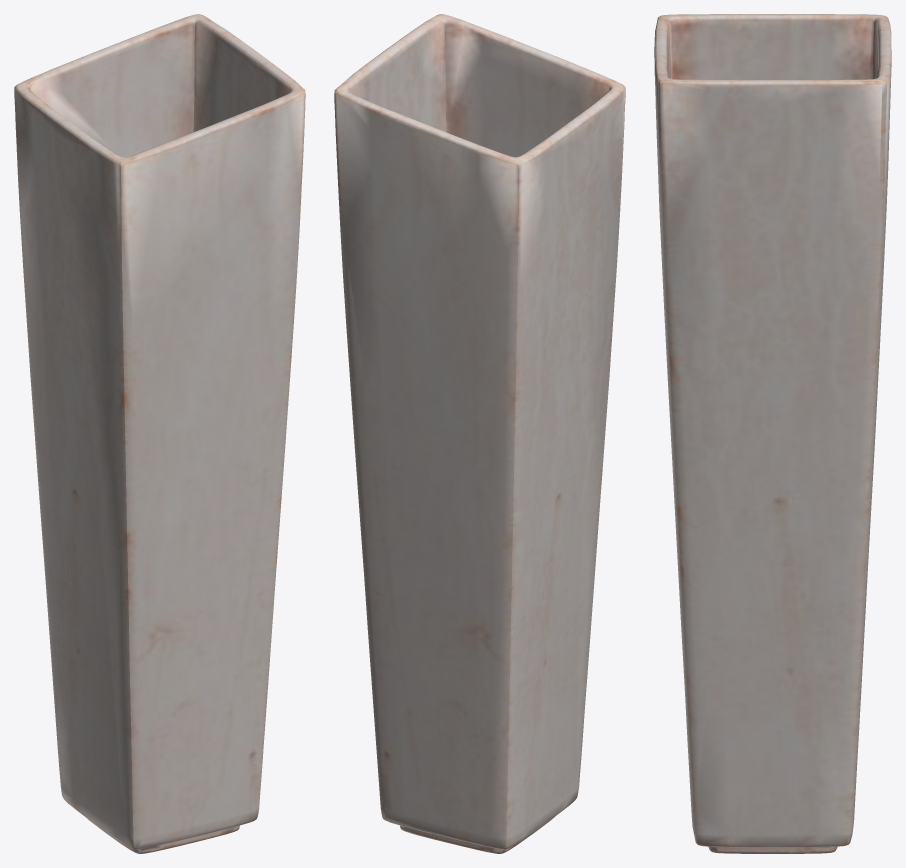
The model's file is VaseCeramicTall.obj.
The picture shows the model from 3 angles, left to right: view 1: azimuth 30°, elevation 25°; view 2: azimuth 150°, elevation 25°; view 3: azimuth 270°, elevation 25°; orthographic projection. The views are drawn at different scales.
Visible parts, largest first — view 1: Ceramic; view 2: Ceramic; view 3: Ceramic.
Boxes of the visible parts, <box> form: Ceramic: <box>14,14,305,853</box>; Ceramic: <box>334,14,625,853</box>; Ceramic: <box>654,14,891,853</box>.
Size of the model in its own units: 0.1122 by 0.4144 by 0.1122.
1 material, 1 textured.
